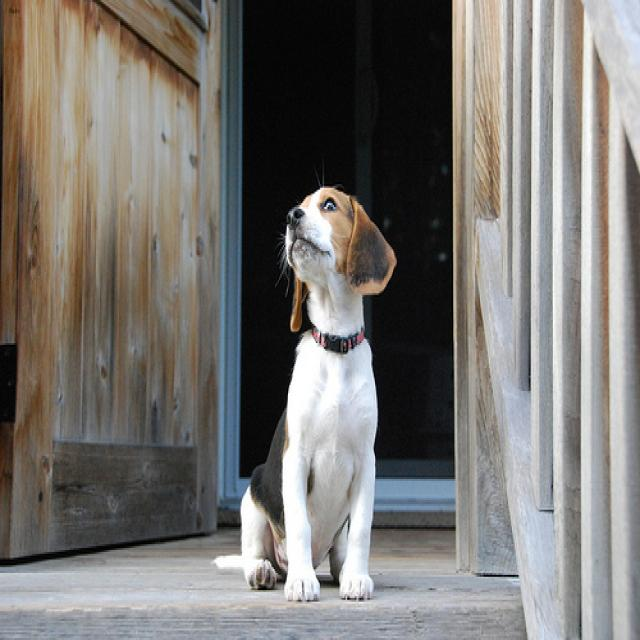dog-beagle: (206, 176, 404, 613)
